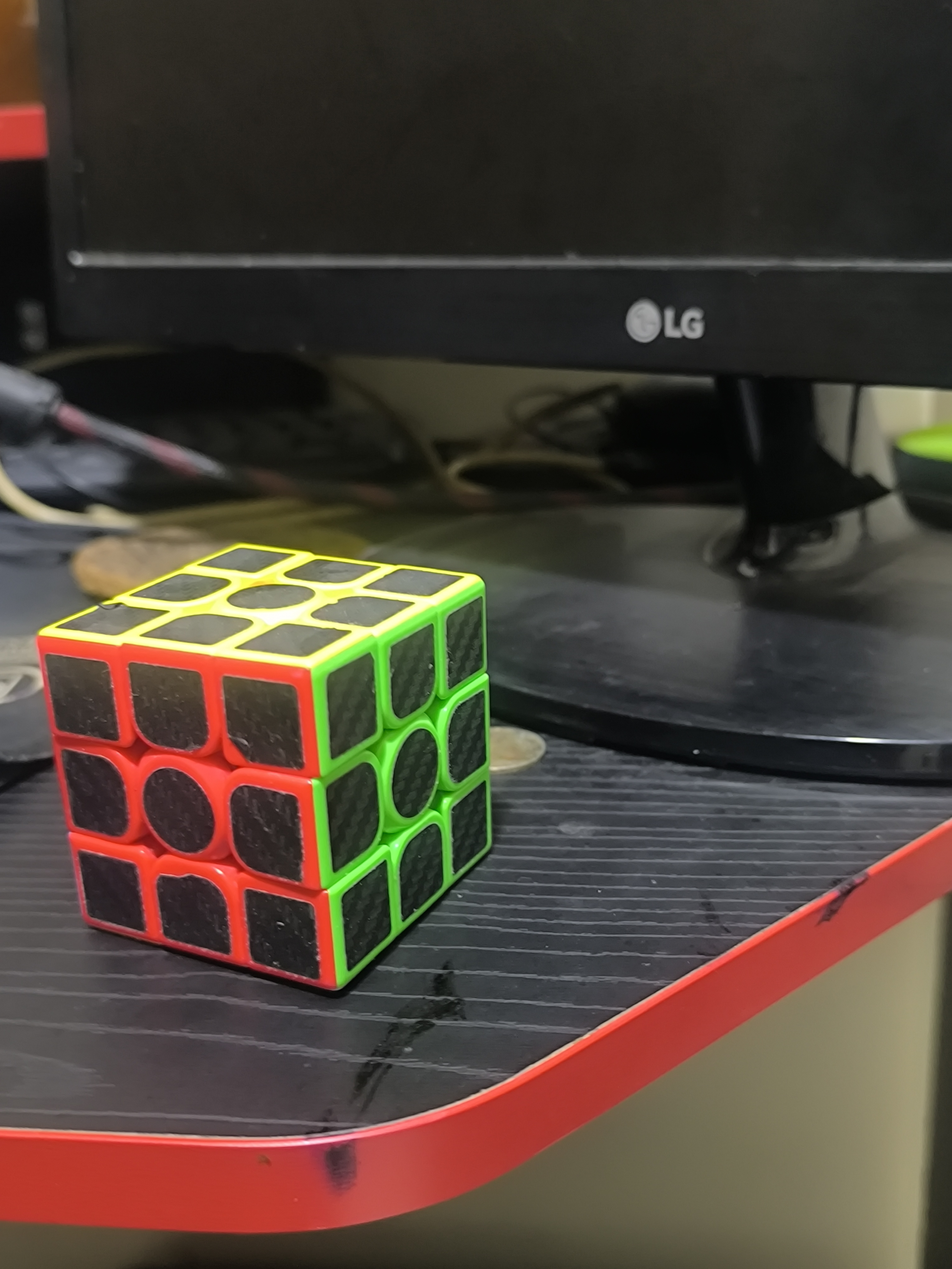cube_rubik: (39, 545, 491, 988)
